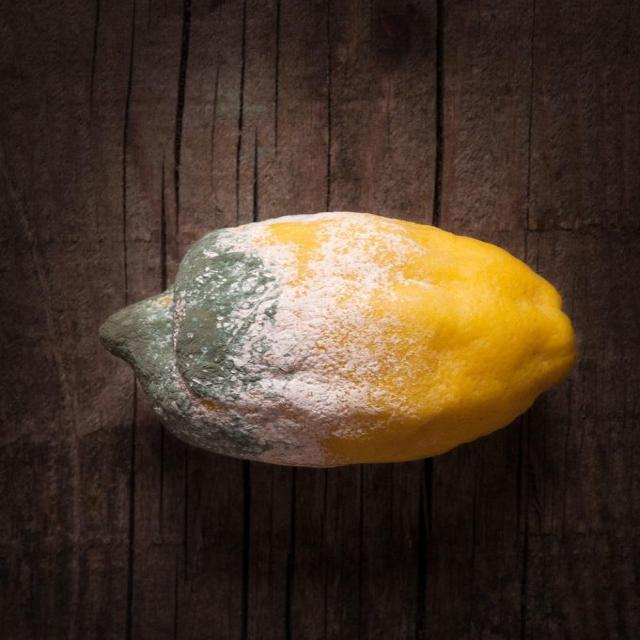Wet Waste: (95, 211, 584, 469)
